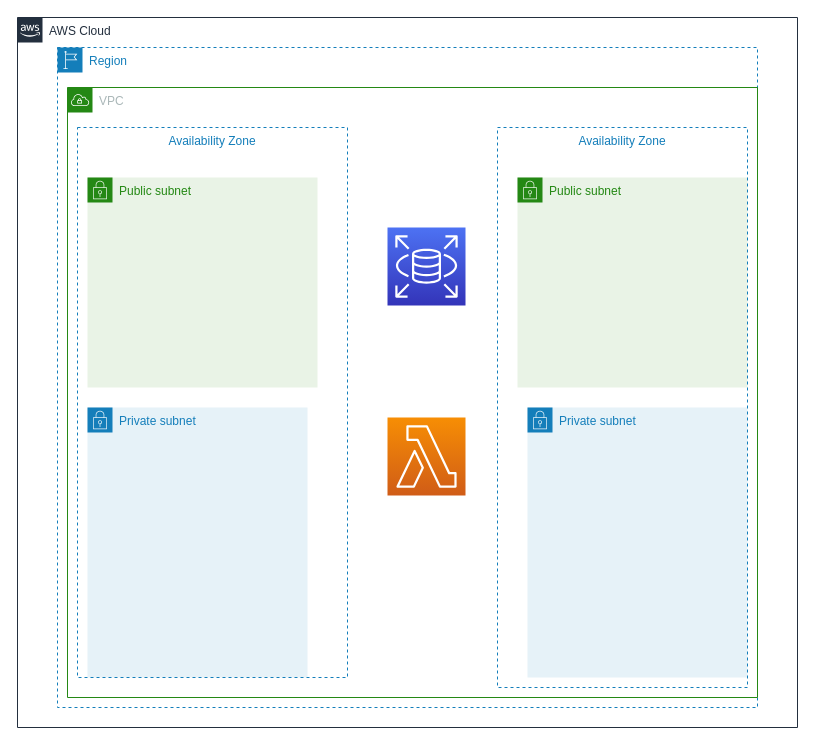
The diagram is 815 pixels wide and 745 high, and some of its shapes have lost their labels. The box of each missing label's shape, as (x1, y1, x2, y2) in pixels:
Amazon RDS: (386, 226, 466, 306)
AWS Lambda: (386, 416, 466, 496)
